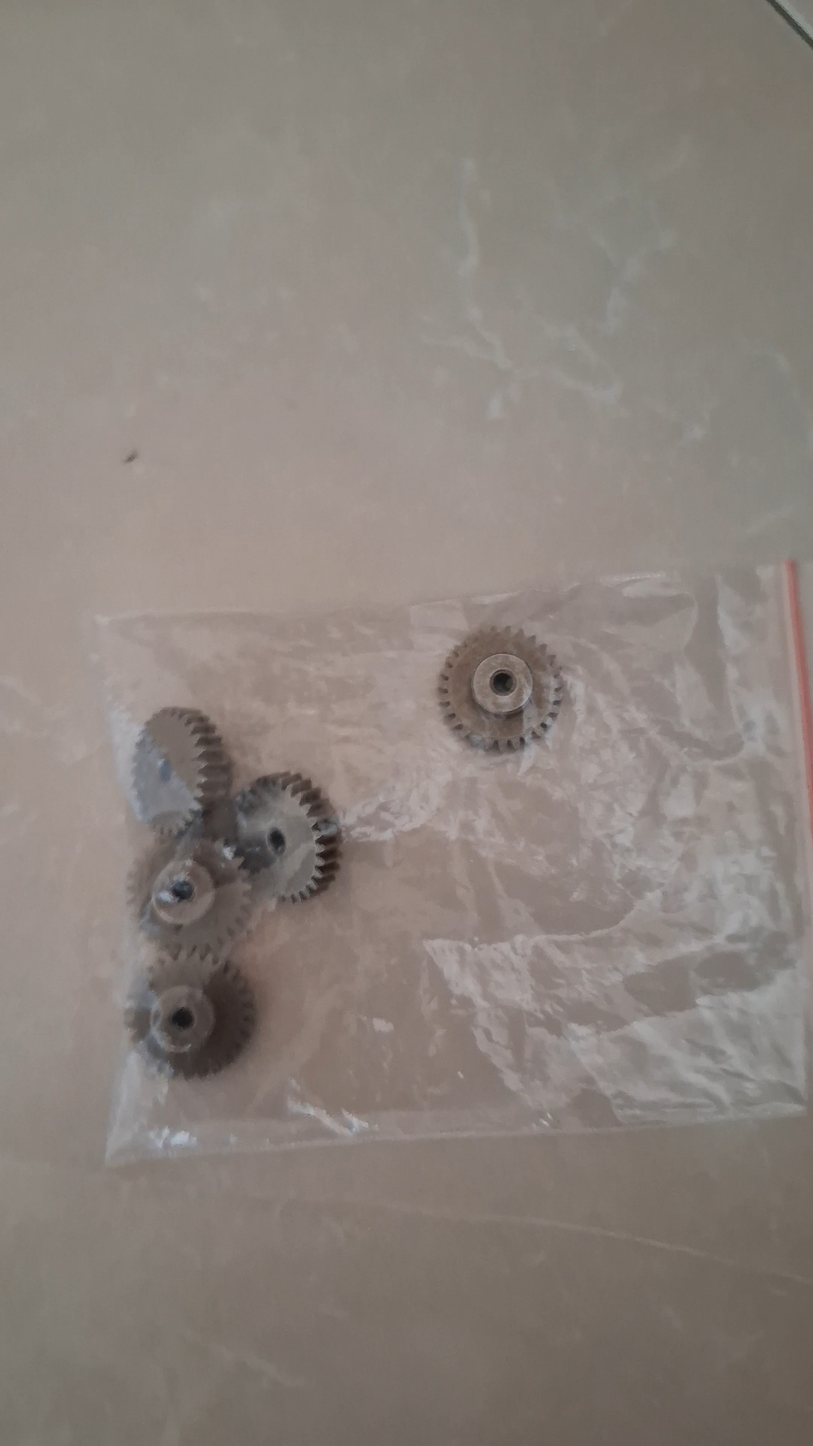spur gear: (125, 952, 255, 1077), (438, 627, 562, 751), (129, 839, 250, 958), (235, 773, 339, 900), (133, 708, 231, 834)
